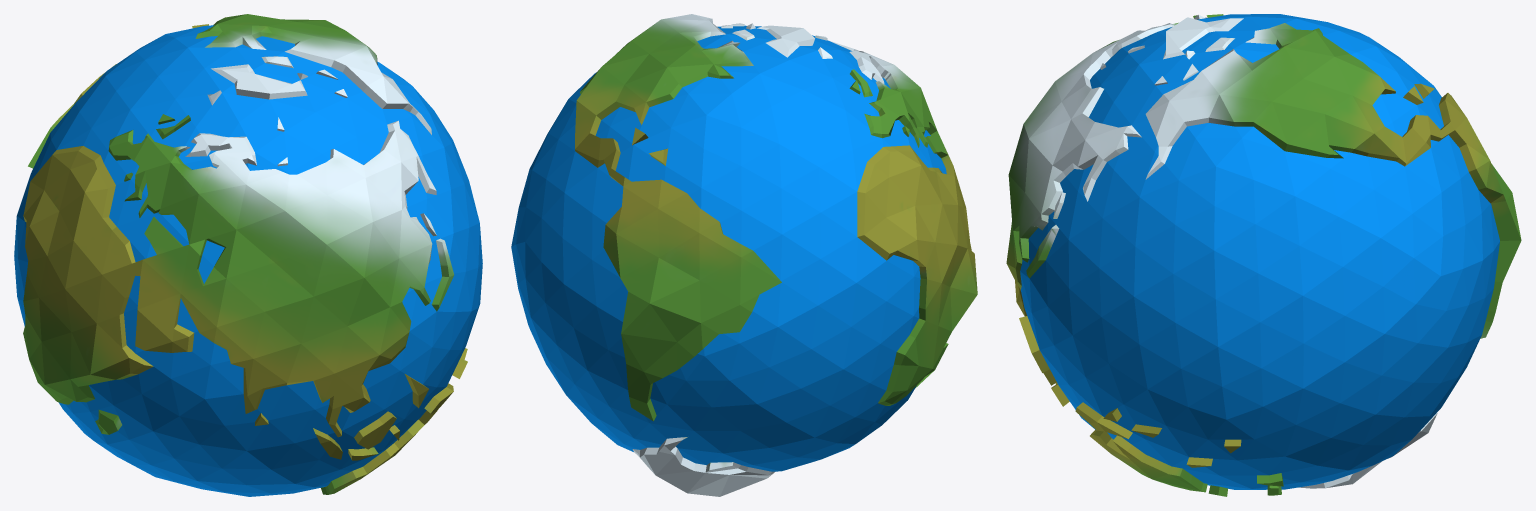
File: earth.glb
The picture shows the model from 3 angles, left to right: view 1: azimuth 30°, elevation 25°; view 2: azimuth 150°, elevation 25°; view 3: azimuth 270°, elevation 25°; orthographic projection. The views are drawn at different scales.
Visible parts, largest first — view 1: node_id11, node_id8; view 2: node_id8, node_id11; view 3: node_id8, node_id11.
Boxes of the visible parts, <box> form: node_id11: <box>23,14,467,494</box>; node_id8: <box>14,25,482,496</box>; node_id8: <box>511,25,946,471</box>; node_id11: <box>575,14,977,496</box>; node_id8: <box>1020,14,1499,489</box>; node_id11: <box>1006,14,1521,496</box>.
Bounding box in the file's own units: 0.4903 × 0.5026 × 0.5161.
2 materials, 2 textured.
